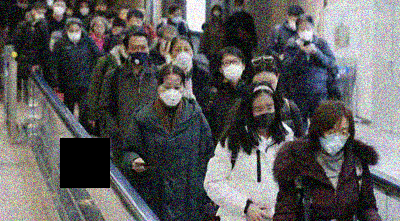with_mask: (318, 125, 350, 156), (252, 102, 277, 130), (159, 81, 184, 108), (127, 43, 150, 67), (221, 57, 243, 82), (172, 44, 193, 68), (297, 26, 313, 41), (68, 27, 82, 44), (52, 3, 66, 16), (288, 17, 298, 31), (171, 13, 183, 24), (79, 5, 90, 17), (33, 10, 46, 20), (213, 7, 220, 17), (235, 4, 243, 12)
without_mask: (94, 22, 106, 35)
